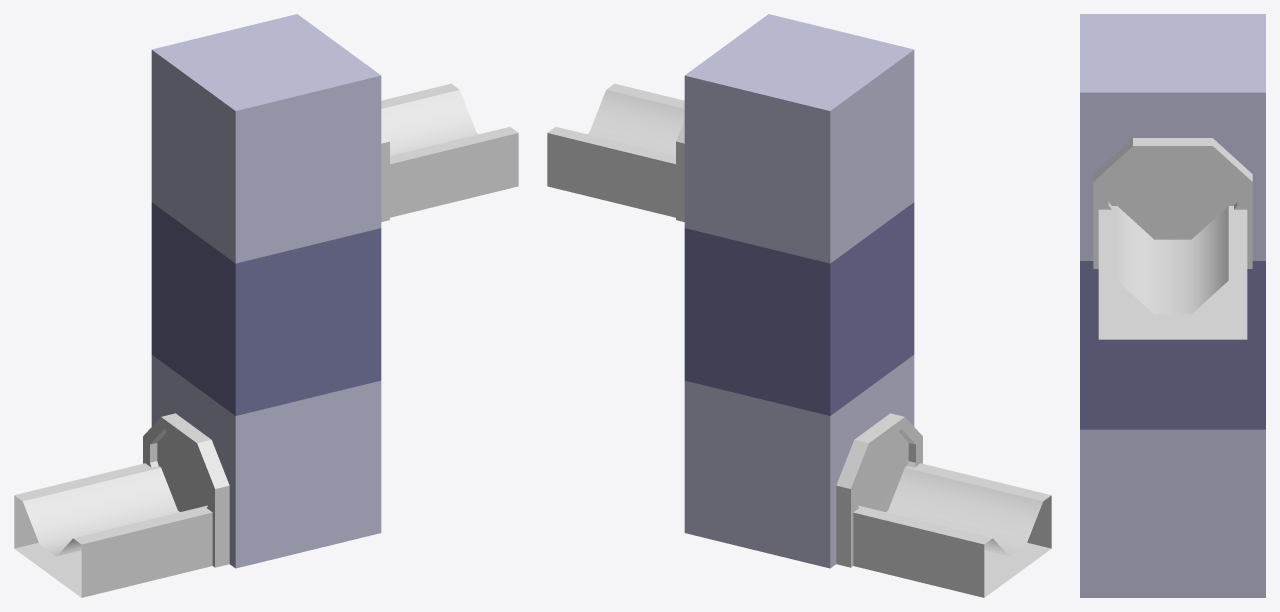
Rendered from looseele2.fbx.
The picture shows the model from 3 angles, left to right: view 1: azimuth 30°, elevation 25°; view 2: azimuth 150°, elevation 25°; view 3: azimuth 270°, elevation 25°; orthographic projection. The views are drawn at different scales.
Visible parts, largest first — view 1: SmallStorage_LooseElevator2; view 2: SmallStorage_LooseElevator2; view 3: SmallStorage_LooseElevator2.
Part boxes in pixels (bbox=[...]): SmallStorage_LooseElevator2: bbox=[14, 14, 518, 597]; SmallStorage_LooseElevator2: bbox=[547, 14, 1051, 597]; SmallStorage_LooseElevator2: bbox=[1080, 14, 1265, 597].
Bounding box in the file's own units: 600 × 600 × 200.
